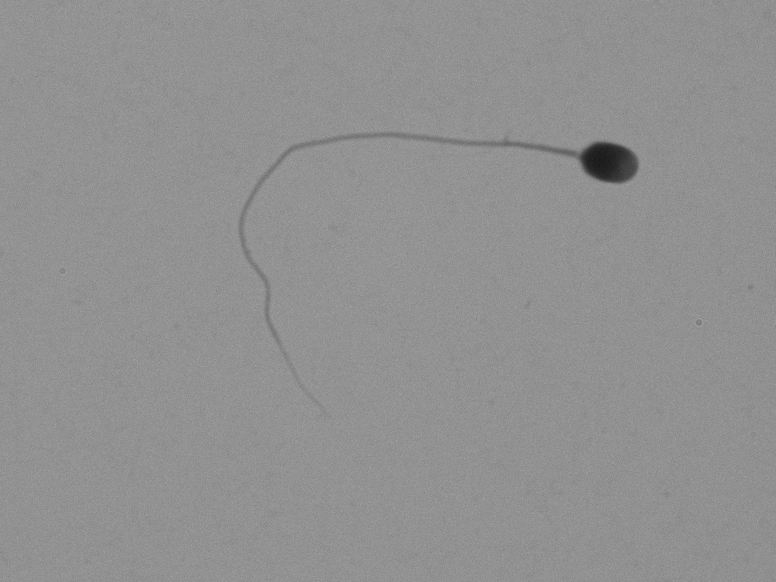Normal: (176, 72, 677, 350)
